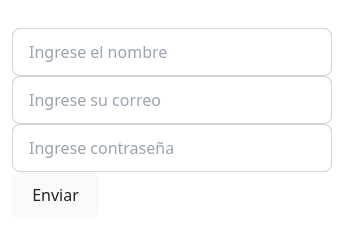
Test case: Pruebas de ManejoFormulario › Mostrar error de conexion
Type "Juan" into the field with placeholder "Ingrese el nombre" at (172, 52), box top-left (12, 28), bottom-right (332, 76)
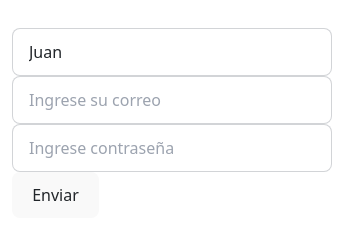
Type "juan@example.com" into the field with placeholder "Ingrese su correo" at (172, 100), box top-left (12, 76), bottom-right (332, 124)
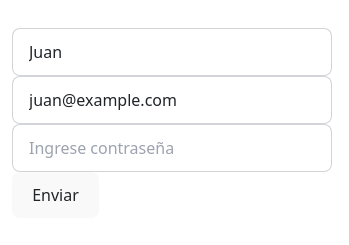
Type "contraseña123" into the password field with placeholder "Ingrese contraseña" at (172, 148), box top-left (12, 124), bottom-right (332, 172)
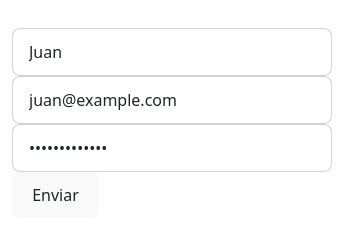
Click the button "Enviar" at (56, 195), box top-left (12, 172), bottom-right (99, 218)
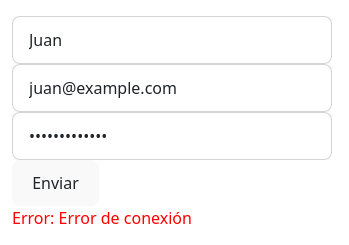
Check: the text "Error: Error de conexión" is shown, box top-left (12, 207), bottom-right (192, 229)
